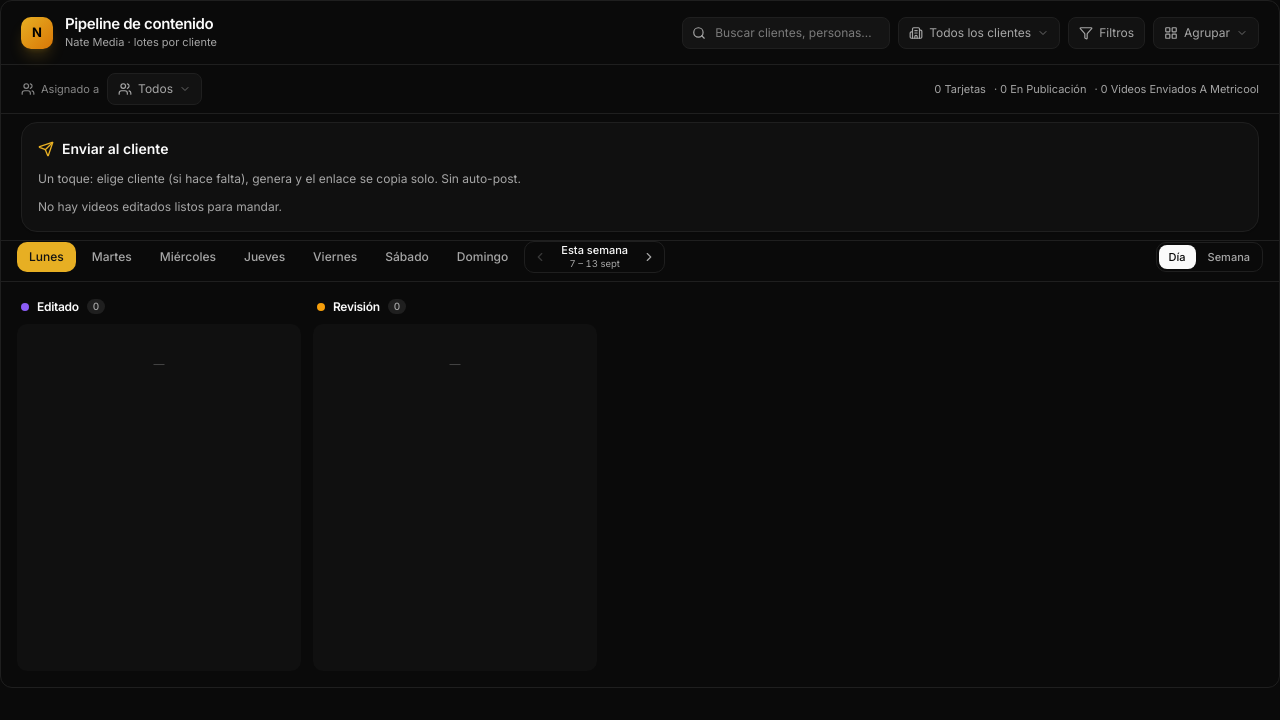
Test: EntregasBoard — trabajar adelantado › avanzar cambia a la próxima semana
Click the button named "Semana siguiente": {"x": 649, "y": 257} [636,246,662,268]
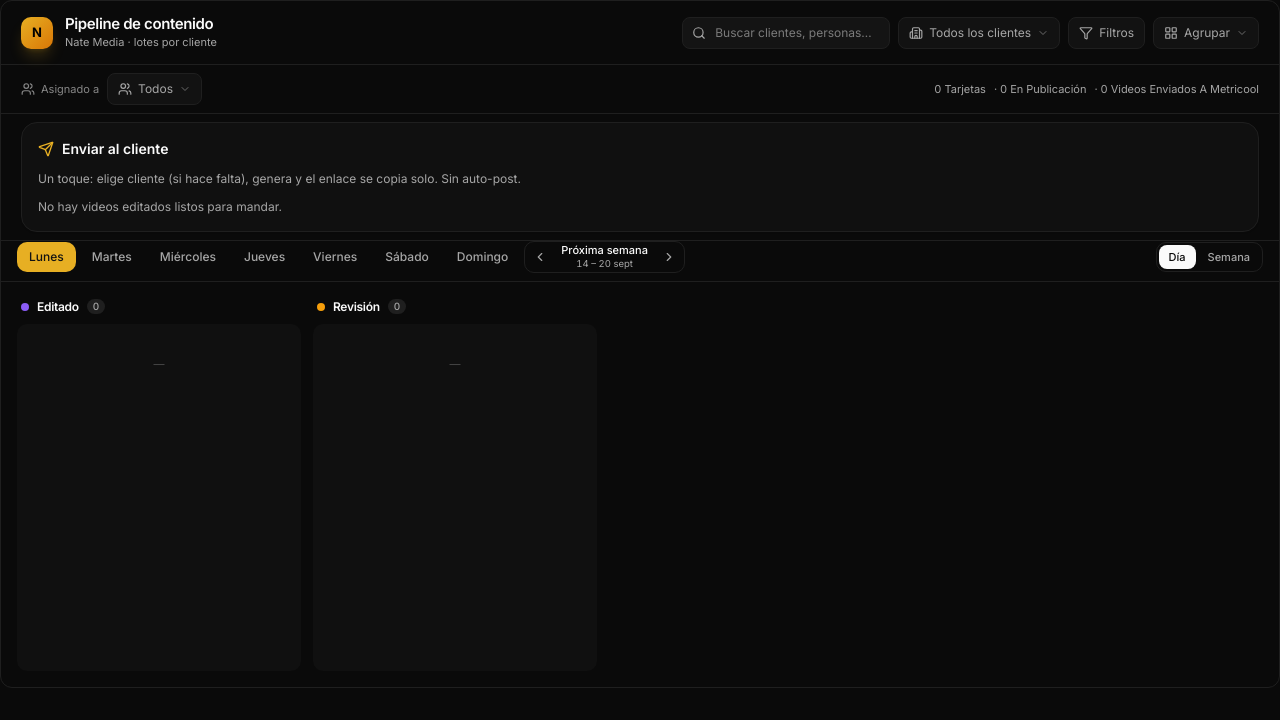
Result: the text "Próxima semana" is shown at [561,244,648,258]
